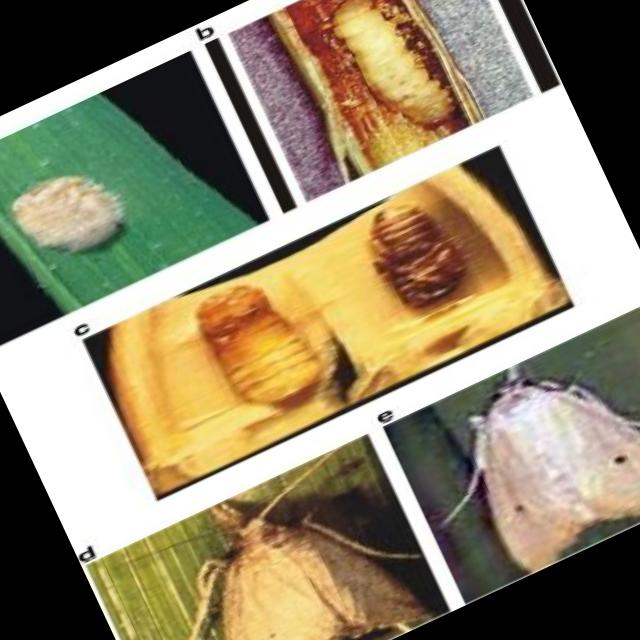stem-borer: (398, 313, 640, 598), (122, 440, 437, 640)
